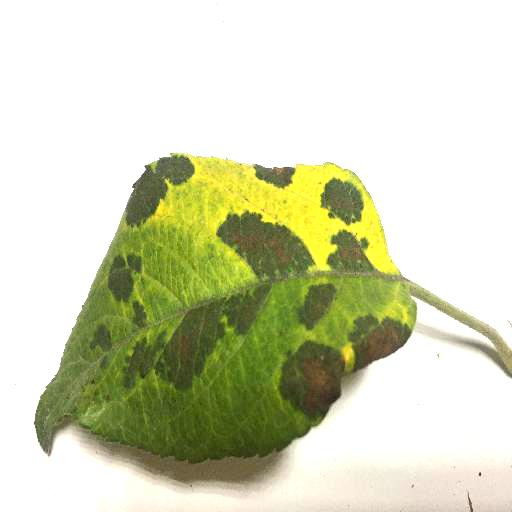Brown_Spot: (157, 297, 262, 376), (217, 212, 300, 274), (135, 166, 189, 221), (275, 351, 324, 411), (354, 321, 407, 358), (322, 185, 373, 223), (328, 231, 371, 265), (107, 260, 137, 299), (299, 284, 325, 318), (255, 161, 293, 184)
